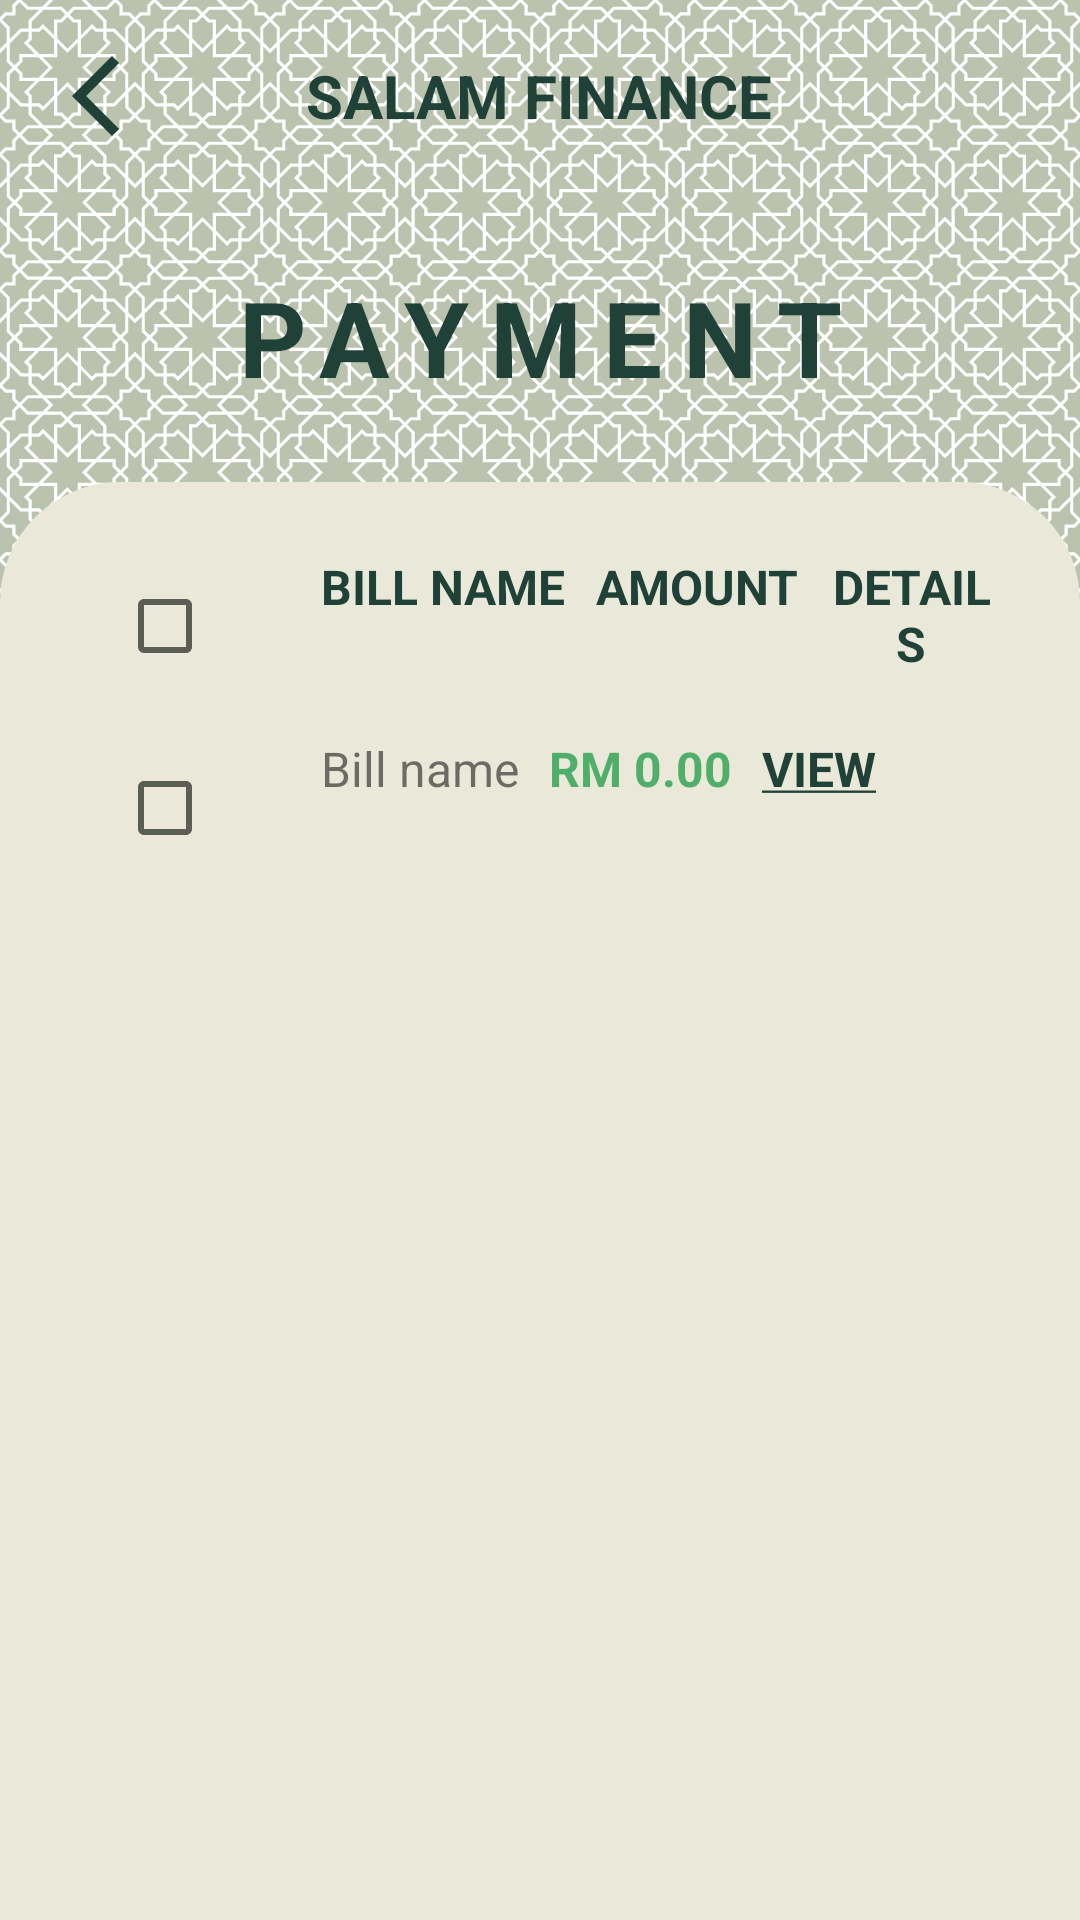

Point at icon controls on the screen. Image size 1080 × 1920, points as (x,y).
arrow back: (96,96)
